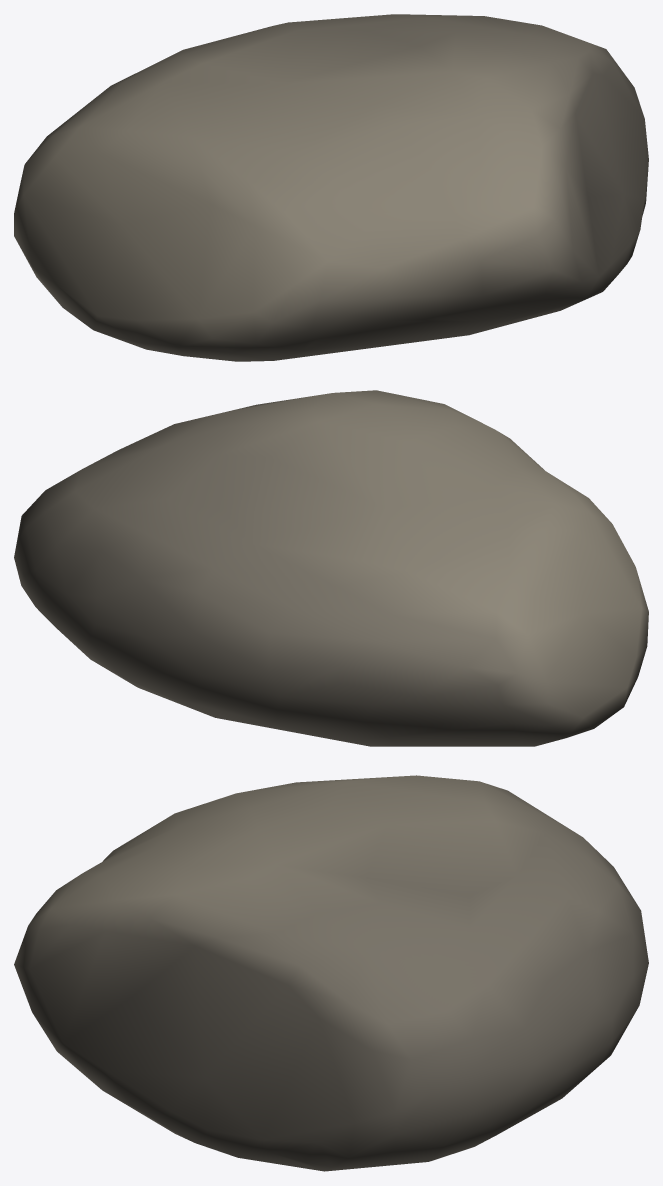
File: stone_a.glb
3 views of the same model, one above another, from view 1: azimuth 30°, elevation 25°; view 2: azimuth 150°, elevation 25°; view 3: azimuth 270°, elevation 25° (orthographic). The views are drawn at different scales.
Parts seen in each view (by area): view 1: stone_a; view 2: stone_a; view 3: stone_a.
Part boxes in pixels (bbox=[...]): stone_a: bbox=[14, 14, 648, 361]; stone_a: bbox=[14, 390, 648, 746]; stone_a: bbox=[14, 775, 648, 1171].
Bounding box in the file's own units: 1.22 × 0.4703 × 1.07.
